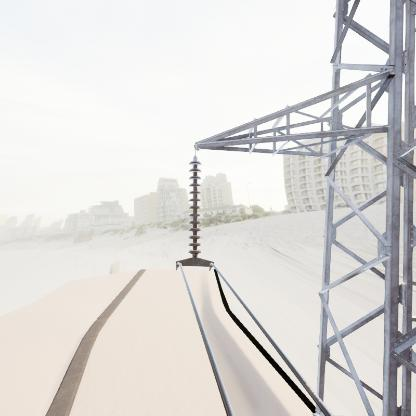insulator: (186, 156, 204, 258)
